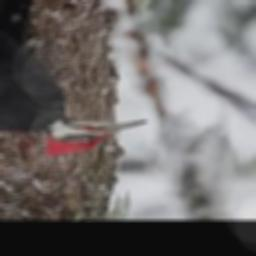Woodpecker: (0, 0, 147, 157)
